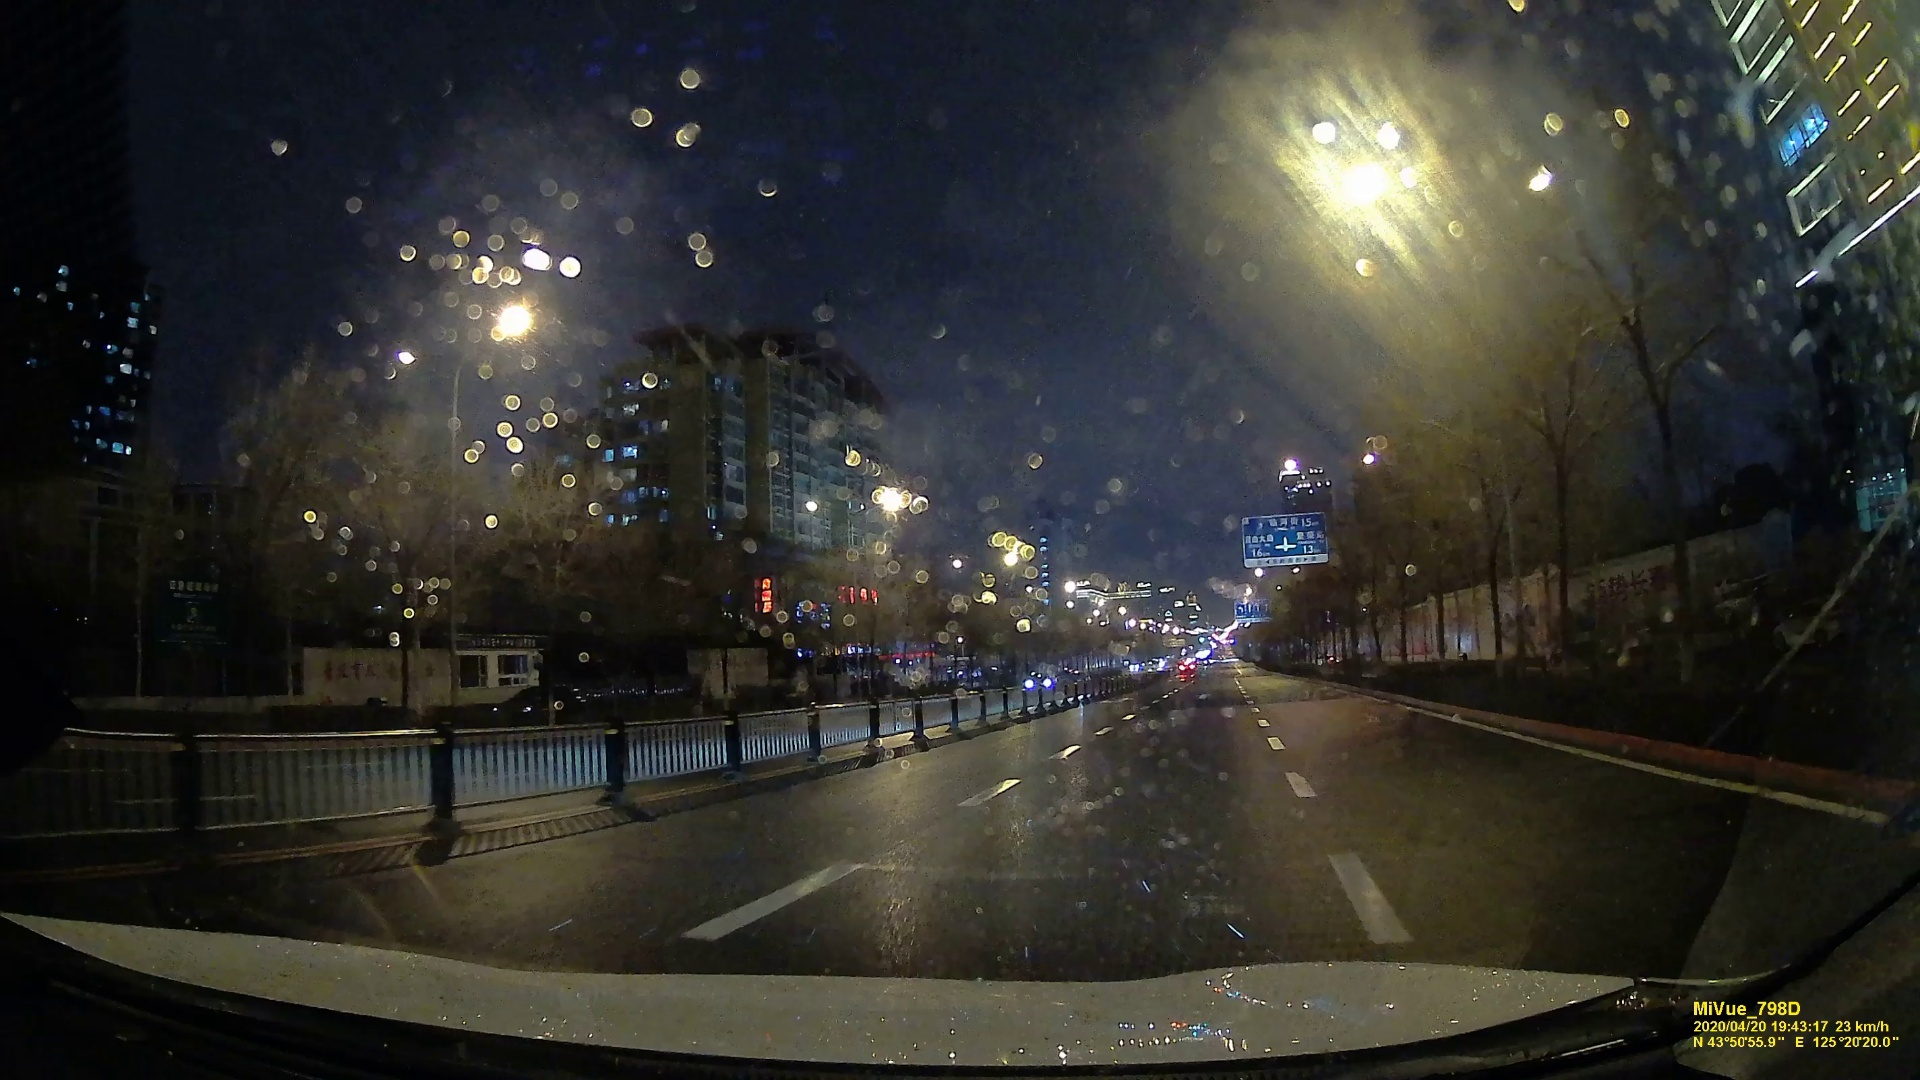traffic_sign: (1241, 516, 1325, 564), (1234, 601, 1270, 621)
